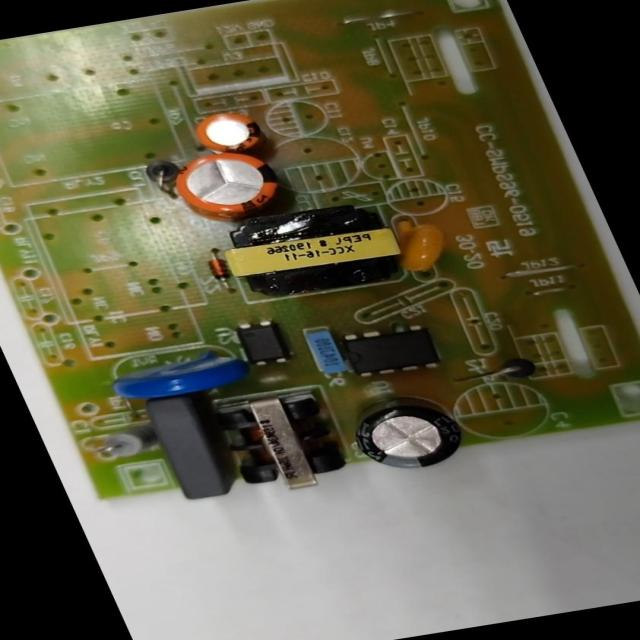Cap1: (166, 148, 290, 227)
Cap2: (191, 110, 264, 155)
Cap3: (341, 390, 469, 476)
MOSFET: (337, 323, 441, 380)
Mov: (100, 346, 252, 404)
Resistor: (88, 423, 164, 462)
Transformer: (214, 198, 416, 305), (207, 387, 358, 501)
